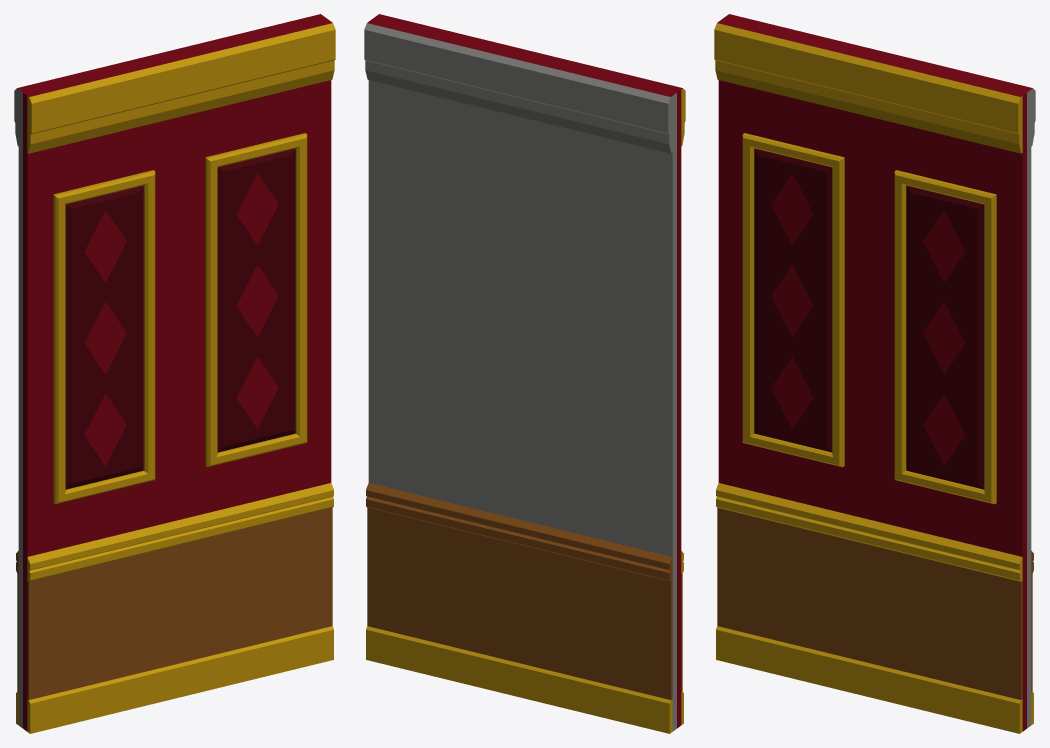
Rendered from casino-wall-module-34025a.glb.
3 renders of one model, left to right at view 1: azimuth 30°, elevation 25°; view 2: azimuth 150°, elevation 25°; view 3: azimuth 330°, elevation 25°, orthographic.
Parts seen in each view (by area): view 1: wall; view 2: wall; view 3: wall.
Part boxes in pixels (x1,y1,x2,y2): wall: (14, 14, 335, 733); wall: (364, 14, 685, 733); wall: (714, 14, 1035, 733).
Size of the model in its own units: 2 by 4 by 0.2.
